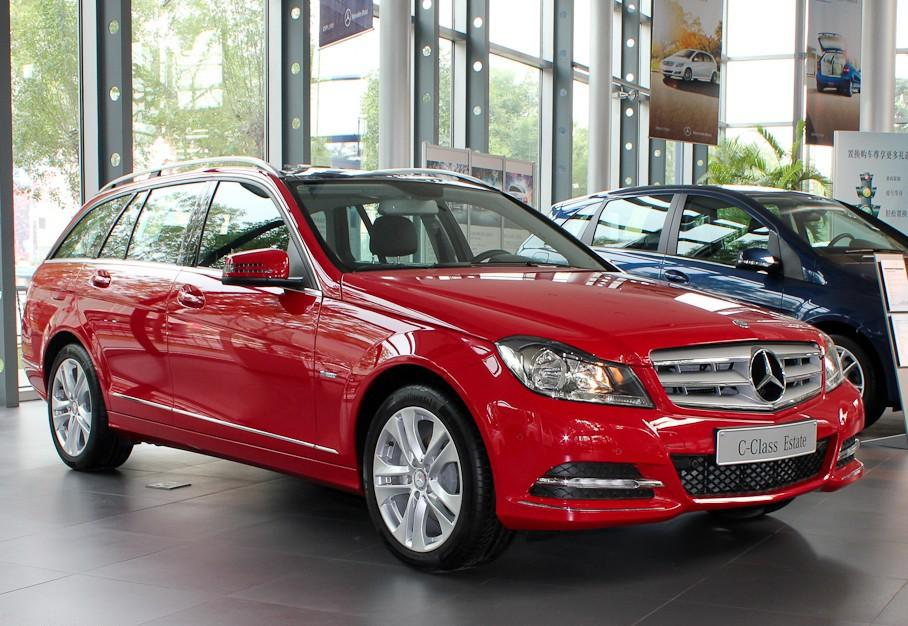Wagon: (18, 154, 868, 577)
